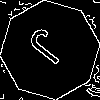J: (25, 25, 77, 74)
